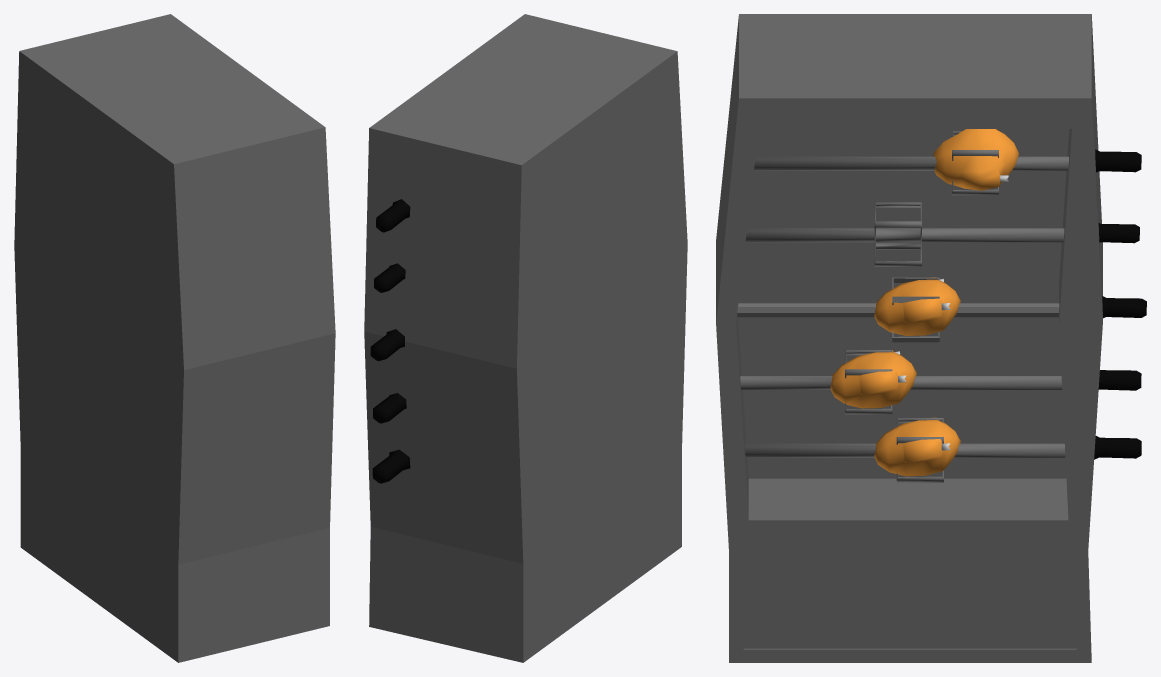
The model's file is ChickenMachine.fbx.
3 renders of one model, left to right at view 1: azimuth 30°, elevation 25°; view 2: azimuth 150°, elevation 25°; view 3: azimuth 270°, elevation 25°, orthographic. The views are drawn at different scales.
Parts seen in each view (by area): view 1: Cube.010; view 2: Cube.010; view 3: Cube.010.
Boxes of the visible parts, x1,y1,x2,y2 form: Cube.010: (14, 14, 335, 662); Cube.010: (364, 14, 687, 662); Cube.010: (716, 14, 1146, 662).
Size of the model in its own units: 76.62 by 165 by 239.
